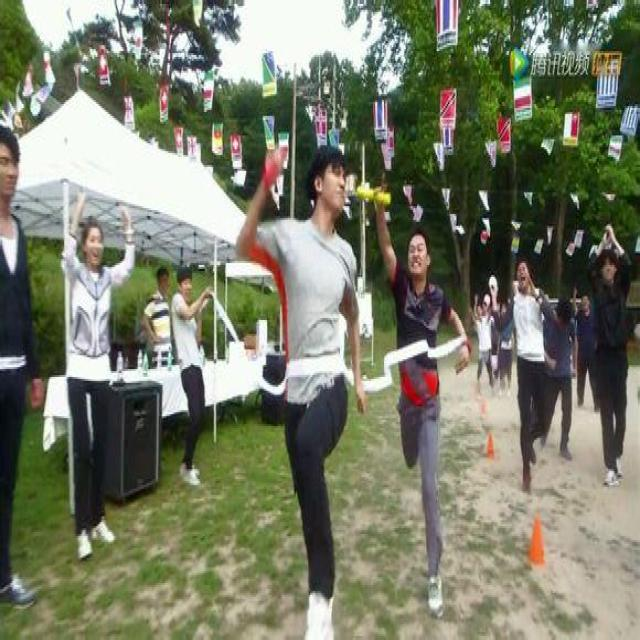non-fight: (237, 147, 363, 638), (370, 182, 470, 614), (50, 216, 129, 559), (0, 118, 51, 604), (572, 220, 636, 487), (500, 251, 562, 497)
